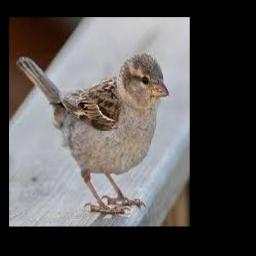Sparrow: (16, 52, 169, 213)
